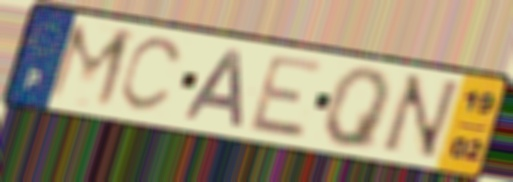A: (181, 48, 246, 131)
C: (115, 35, 188, 116)
E: (245, 52, 328, 142)
M: (40, 18, 138, 114)
N: (374, 71, 464, 163)
Q: (321, 66, 395, 153)
